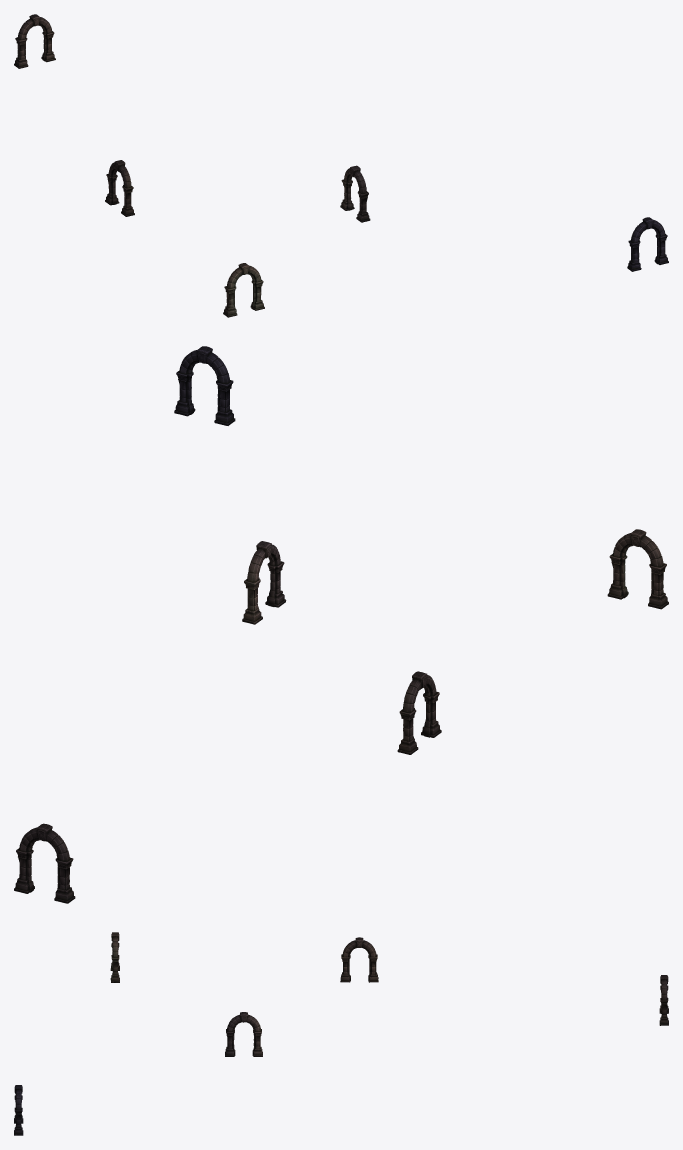
The model's file is dg_arch_gate.glb.
3 renders of one model, top to bottom at view 1: azimuth 30°, elevation 25°; view 2: azimuth 150°, elevation 25°; view 3: azimuth 270°, elevation 25°, orthographic. The views are drawn at different scales.
Parts seen in each view (by area): view 1: DECO_DGP_ARCH_GATE; view 2: DECO_DGP_ARCH_GATE; view 3: DECO_DGP_ARCH_GATE.
Part boxes in pixels (x1=…): DECO_DGP_ARCH_GATE: x1=14, y1=14, x2=668, y2=317; DECO_DGP_ARCH_GATE: x1=14, y1=346, x2=668, y2=903; DECO_DGP_ARCH_GATE: x1=14, y1=932, x2=668, y2=1135.
Size of the model in its own units: 27.65 by 3.2 by 45.35.
Materials: 1 (1 with a texture image).
